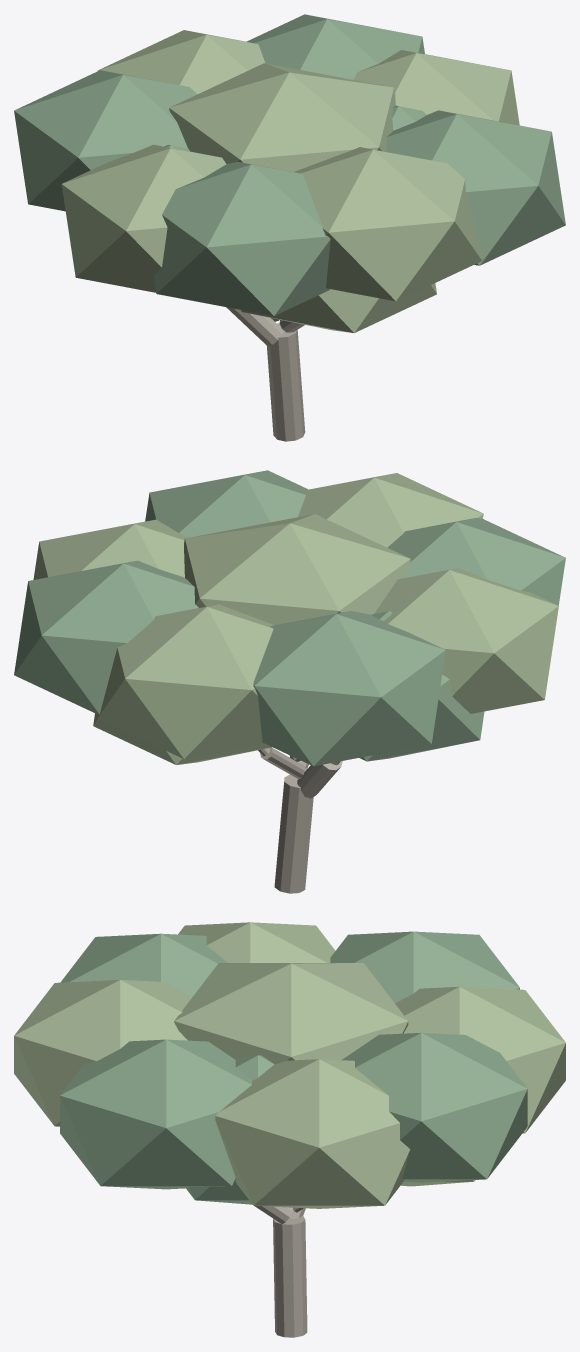
Rendered from plane-tree-massing-c.glb.
3 views of the same model, one above another, from view 1: azimuth 30°, elevation 25°; view 2: azimuth 150°, elevation 25°; view 3: azimuth 270°, elevation 25° (orthographic).
Parts seen in each view (by area): view 1: plane-tree-massing-c; view 2: plane-tree-massing-c; view 3: plane-tree-massing-c.
Boxes of the visible parts, x1,y1,x2,y2 form: plane-tree-massing-c: (14, 14, 565, 441); plane-tree-massing-c: (14, 470, 565, 893); plane-tree-massing-c: (14, 922, 565, 1337).
Size of the model in its own units: 10.83 by 8 by 10.82.
